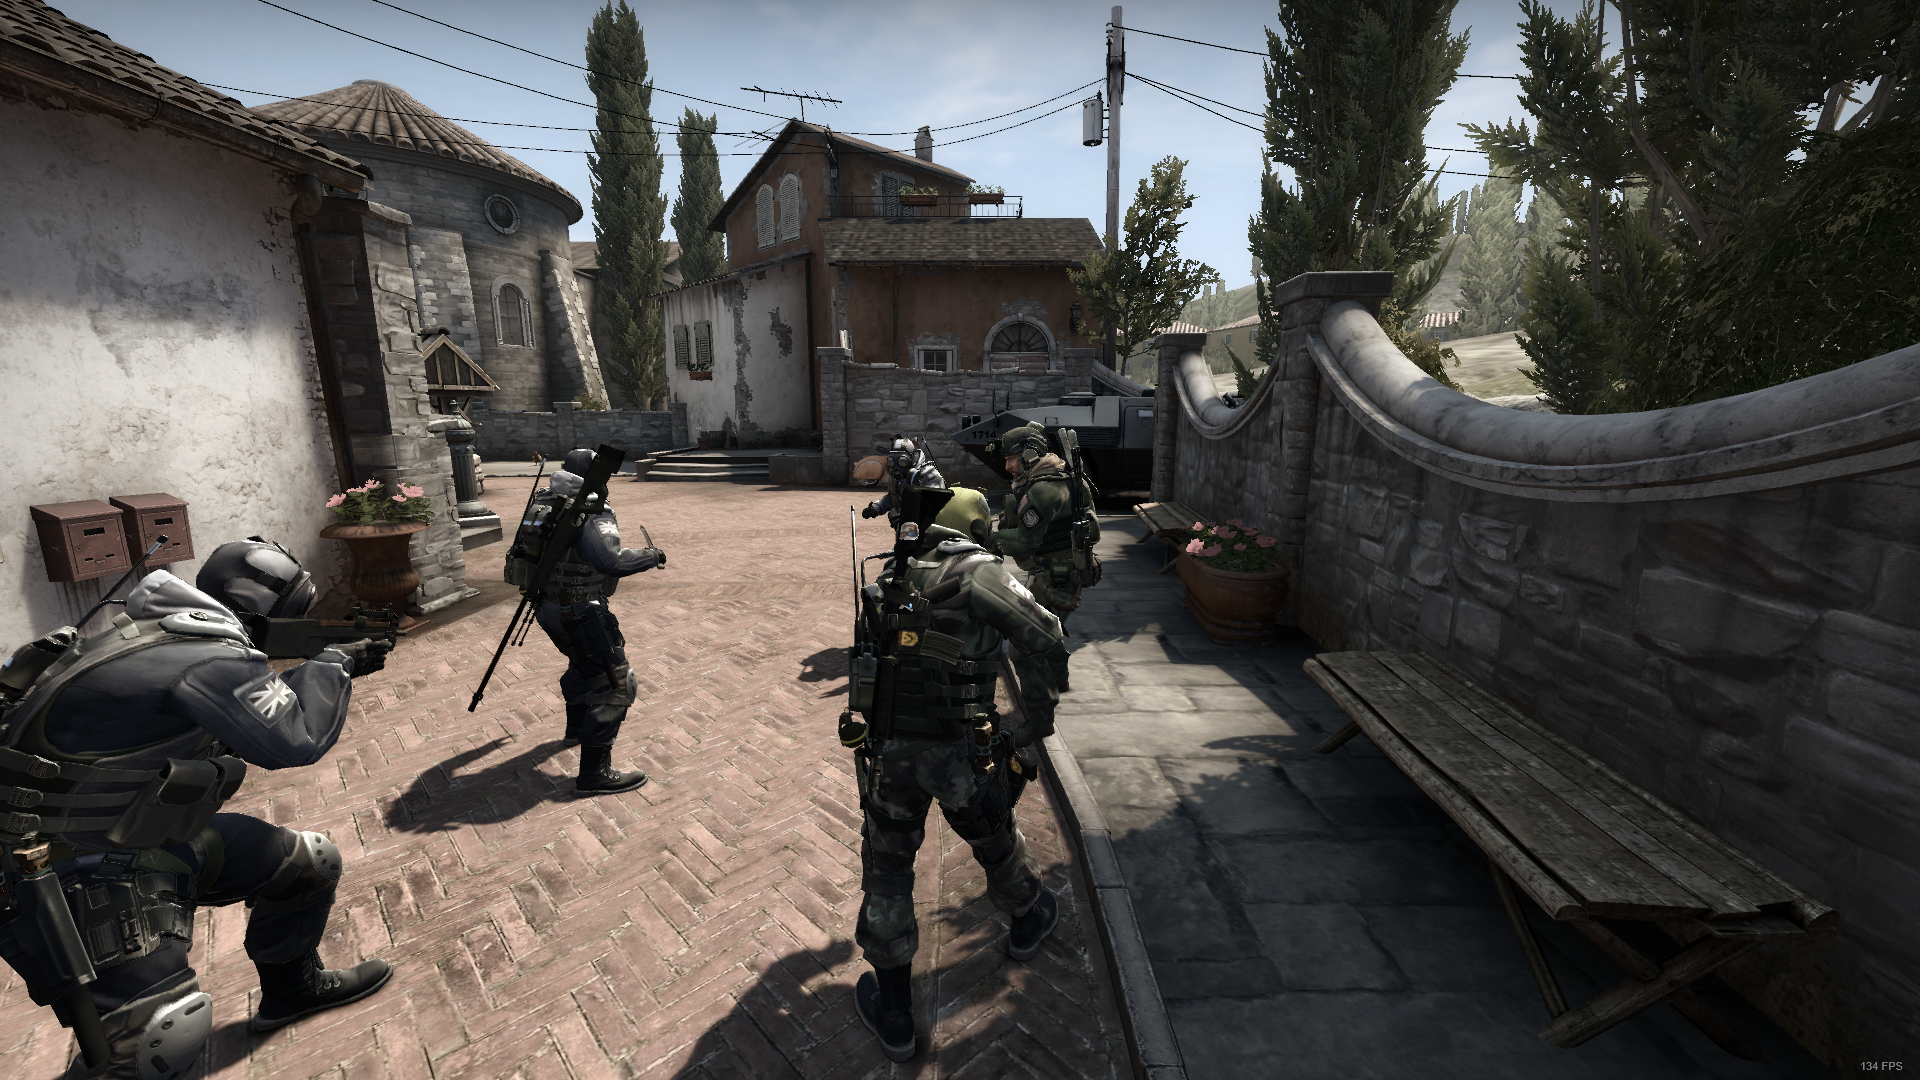ct: (3, 539, 397, 1080), (847, 491, 1065, 1058), (498, 433, 669, 811), (866, 433, 945, 530)
